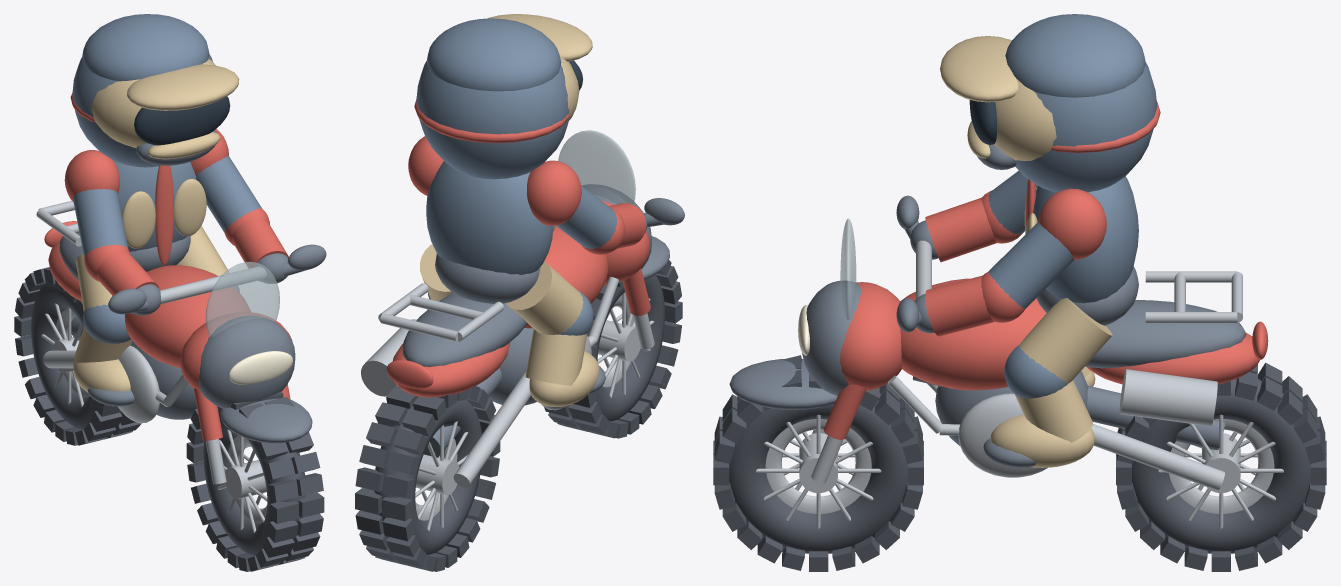
Rendered from icono_motorista.glb.
The picture shows the model from 3 angles, left to right: view 1: azimuth 30°, elevation 25°; view 2: azimuth 150°, elevation 25°; view 3: azimuth 270°, elevation 25°; orthographic projection. The views are drawn at different scales.
Parts seen in each view (by area): view 1: neumatico (×2), casco_superior, deposito, taco (×11), frontal, brazo (×2), parabrisas, visera, antebrazo (×2), bolsillo (×2), visor, guardabarros (+29 smaller); view 2: casco, chaqueta, taco (×16), neumatico (×2), casco_superior, asiento, hombro (×2), muslo (×2), parabrisas, cintura, portaequipajes (×4), pierna (+24 smaller); view 3: neumatico (×2), casco, casco_superior, deposito, llanta (×2), asiento, chaqueta, antebrazo (×2), brazo (×2), carenado_frontal, muslo, escape (+25 smaller).
Boxes of the visible parts, x1,y1,x2,y2 form: neumatico (×2): (31, 283, 306, 555); casco_superior: (82, 14, 209, 81); deposito: (125, 265, 250, 367); taco (×11): (90, 411, 324, 557); frontal: (198, 315, 295, 408); brazo (×2): (73, 155, 261, 256); parabrisas: (205, 261, 279, 338); visera: (127, 64, 239, 110); antebrazo (×2): (96, 217, 288, 314); bolsillo (×2): (122, 179, 206, 248); visor: (134, 96, 230, 145); guardabarros: (220, 397, 312, 443); casco: (416, 61, 569, 179); chaqueta: (426, 161, 553, 274); taco (×16): (355, 387, 602, 556); neumatico (×2): (374, 274, 664, 554); casco_superior: (426, 18, 561, 91); asiento: (402, 293, 527, 366); hombro (×2): (408, 136, 581, 225); muslo (×2): (420, 244, 583, 334); parabrisas: (558, 130, 635, 204); cintura: (435, 254, 540, 303); portaequipajes (×4): (378, 283, 503, 341); pierna: (525, 329, 587, 385); neumatico (×2): (729, 378, 1310, 553); casco: (1015, 62, 1157, 192); casco_superior: (1005, 14, 1145, 97); deposito: (899, 278, 1046, 390); llanta (×2): (765, 419, 1274, 513); asiento: (1085, 300, 1246, 368); chaqueta: (1033, 176, 1138, 303); antebrazo (×2): (925, 197, 996, 336); brazo (×2): (988, 170, 1074, 308); carenado_frontal: (839, 282, 901, 390); muslo: (1019, 298, 1112, 383); escape: (1119, 369, 1217, 426).
Bounding box in the file's own units: 1.28 × 2.57 × 2.68.
